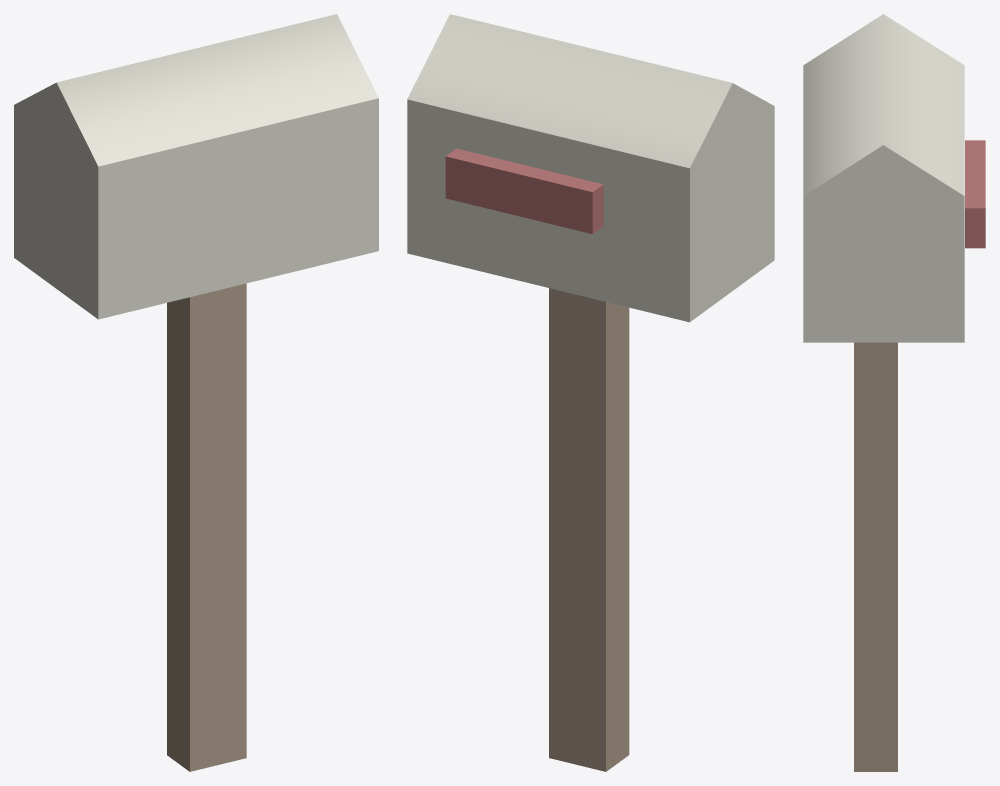
File: mailBox_cream02.fbx
3 views of the same model, side by side, from view 1: azimuth 30°, elevation 25°; view 2: azimuth 150°, elevation 25°; view 3: azimuth 270°, elevation 25° (orthographic). The views are drawn at different scales.
Parts seen in each view (by area): view 1: mailBox, mailBox_stand; view 2: mailBox, mailBox_stand, mailBox_flag; view 3: mailBox, mailBox_stand, mailBox_flag.
Part boxes in pixels (x1,y1,x2,y2): mailBox: [14, 14, 378, 319]; mailBox_stand: [167, 283, 246, 771]; mailBox: [407, 14, 774, 322]; mailBox_stand: [549, 288, 629, 771]; mailBox_flag: [445, 148, 603, 234]; mailBox: [803, 14, 964, 342]; mailBox_stand: [854, 342, 897, 771]; mailBox_flag: [965, 140, 985, 248].
Size of the model in its own units: 0.3195 by 0.7695 by 0.1879.
